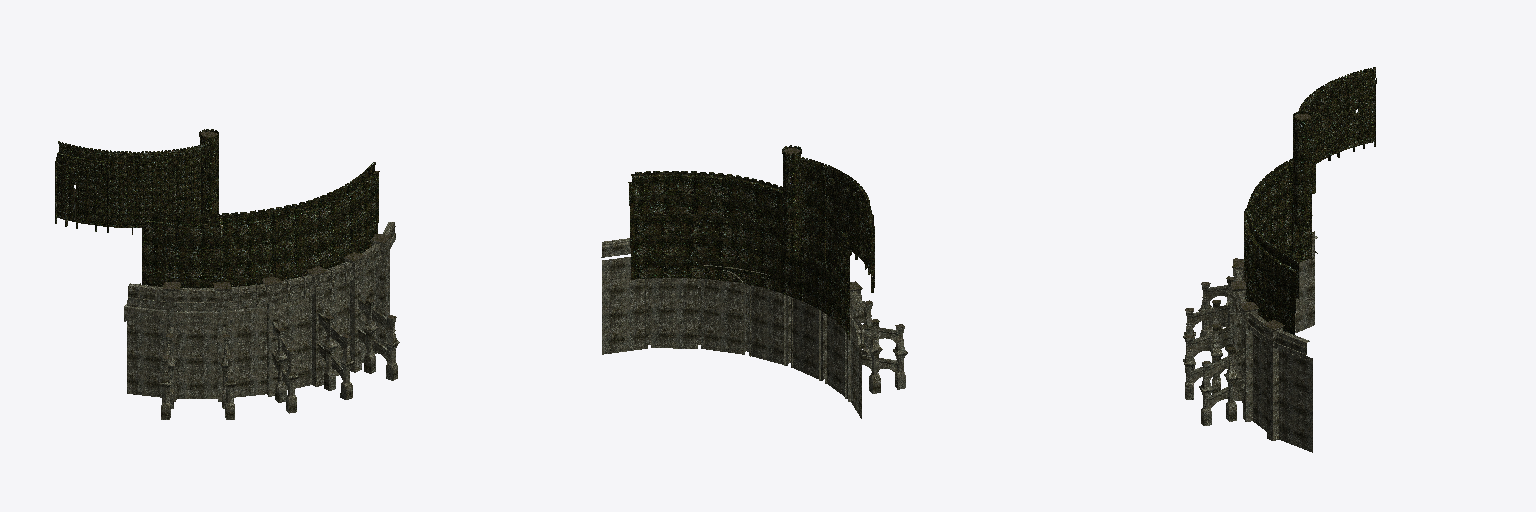
3 views of the same model, side by side, from view 1: azimuth 30°, elevation 25°; view 2: azimuth 150°, elevation 25°; view 3: azimuth 270°, elevation 25° (orthographic).
Visible parts, largest first — view 1: mesh3, mesh1, mesh0, mesh2; view 2: mesh1, mesh3, mesh0; view 3: mesh3, mesh1, mesh0, mesh2.
Part boxes in pixels (x1,y1,x2,y2): mesh3: (124,222,399,419); mesh1: (55,129,379,287); mesh0: (57,145,205,227); mesh2: (162,131,395,358); mesh1: (628,145,874,339); mesh3: (601,238,907,418); mesh0: (801,168,872,271); mesh3: (1183,215,1317,452); mesh1: (1244,67,1376,334); mesh0: (1307,70,1375,160); mesh2: (1185,114,1310,363).
Bounding box in the file's own units: 301 × 231 × 164.
Materials: 4 (3 with a texture image).